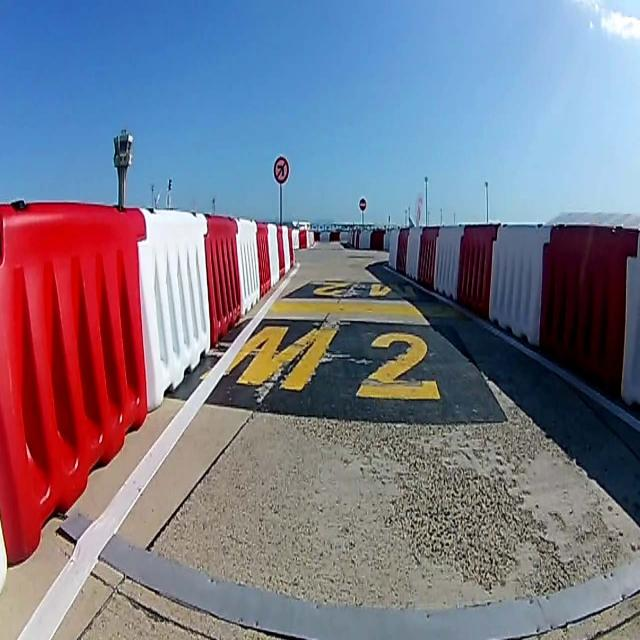girisyok: (359, 197, 367, 211)
soladonulmez: (273, 156, 289, 184)
